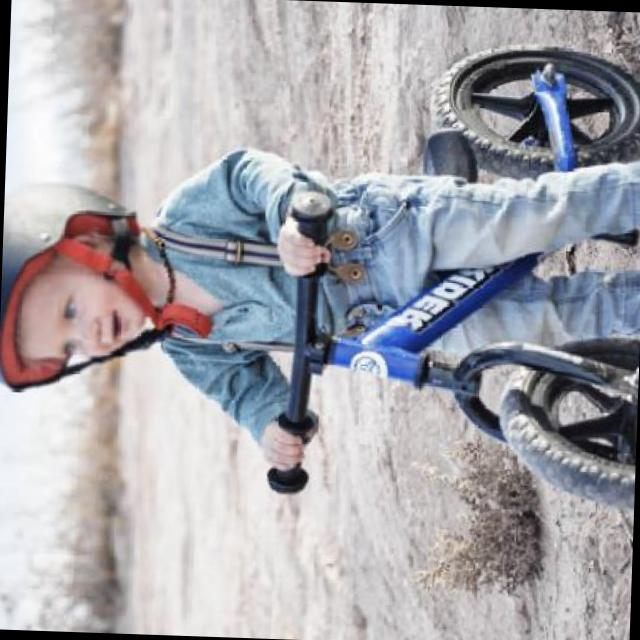With Helmet: (0, 176, 158, 397)
